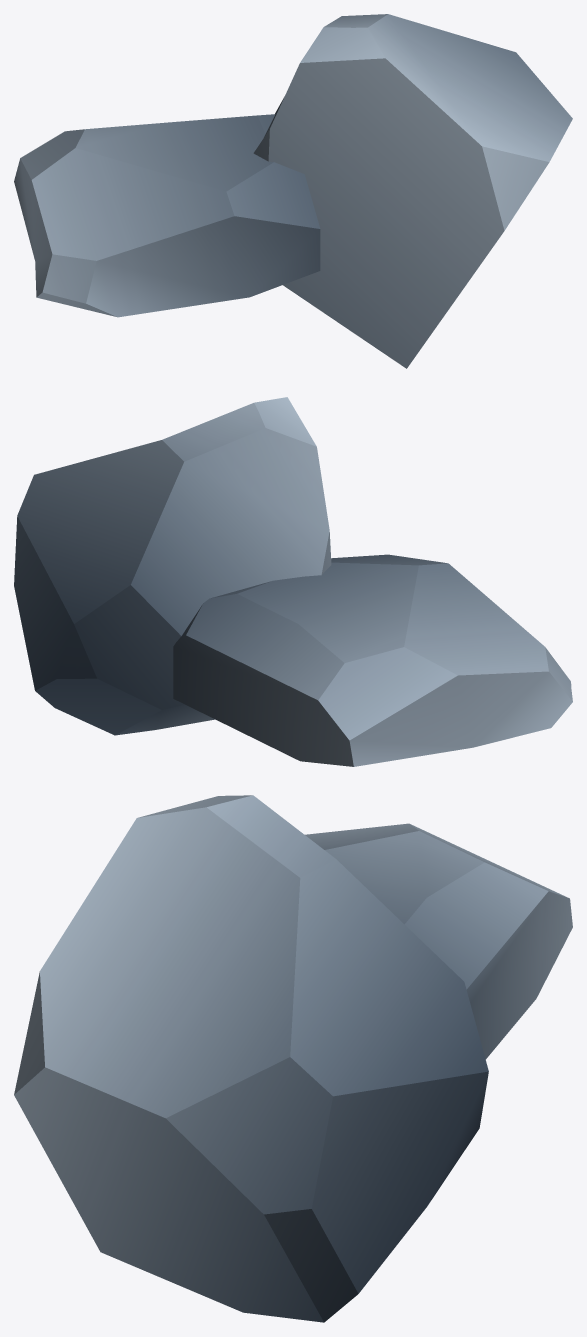
The model's file is rock_v1.fbx.
3 views of the same model, one above another, from view 1: azimuth 30°, elevation 25°; view 2: azimuth 150°, elevation 25°; view 3: azimuth 270°, elevation 25° (orthographic). The views are drawn at different scales.
Visible parts, largest first — view 1: polySurface135, polySurface134; view 2: polySurface135, polySurface134; view 3: polySurface135, polySurface134.
Boxes of the visible parts, x1,y1,x2,y2 form: polySurface135: (253,14,572,368); polySurface134: (14,114,320,317); polySurface135: (14,397,331,735); polySurface134: (173,554,572,766); polySurface135: (14,795,488,1322); polySurface134: (305,823,572,1059).
Bounding box in the file's own units: 257 × 155 × 174.
